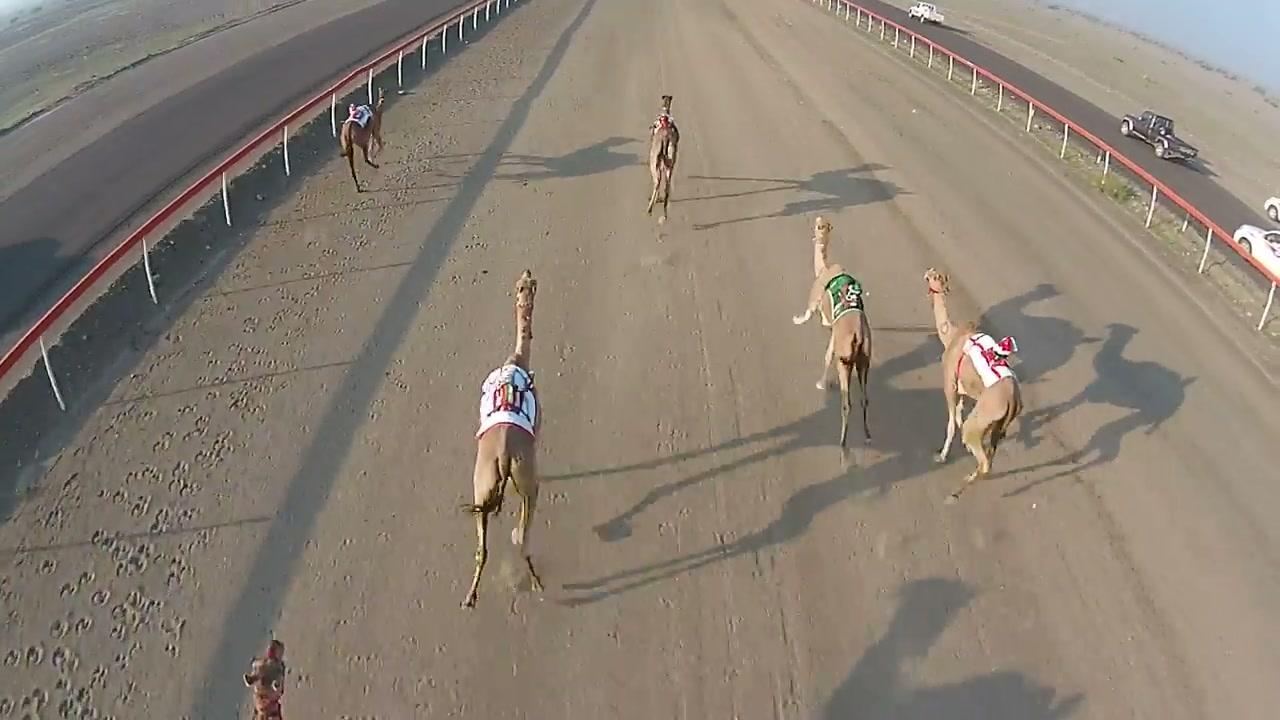animal_foot_print: (4, 244, 328, 719)
